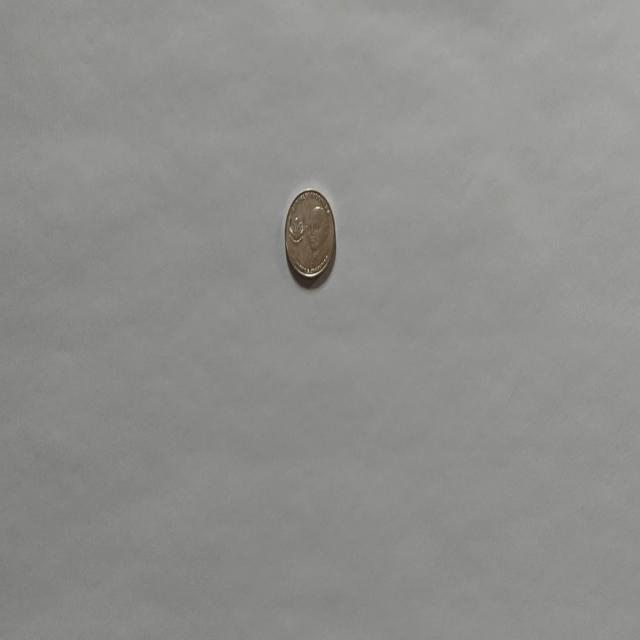lima ratus rupiah: (284, 187, 336, 281)
